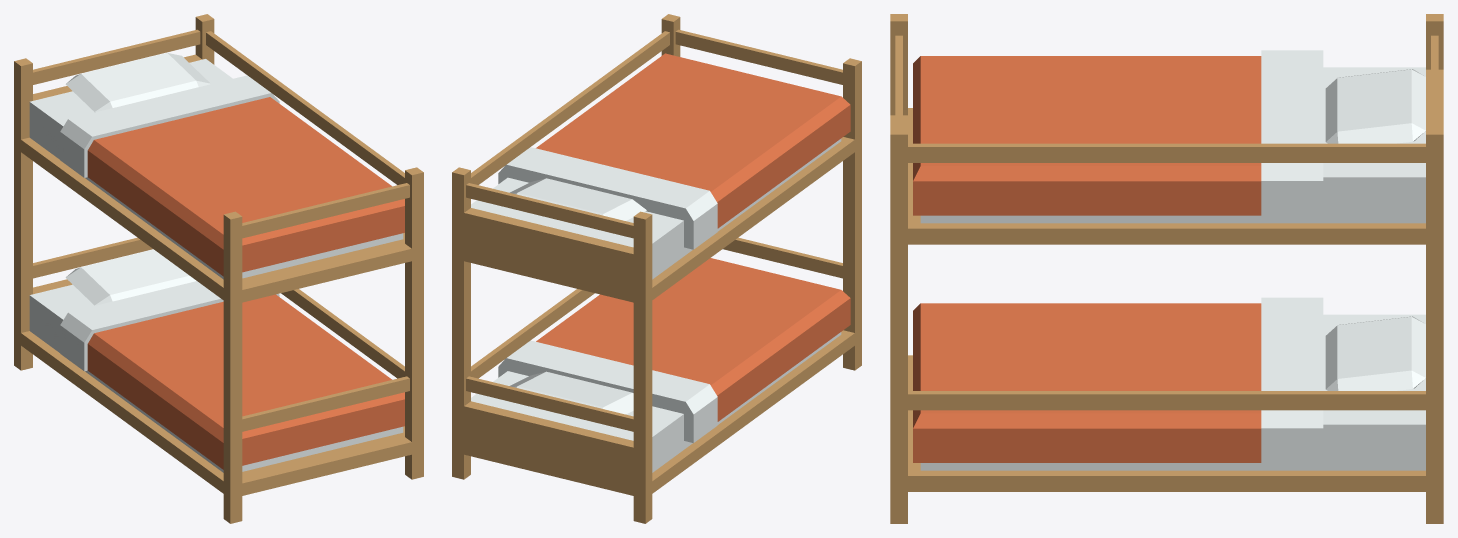
Rendered from bedBunk.glb.
The picture shows the model from 3 angles, left to right: view 1: azimuth 30°, elevation 25°; view 2: azimuth 150°, elevation 25°; view 3: azimuth 270°, elevation 25°; orthographic projection. The views are drawn at different scales.
Visible parts, largest first — view 1: bedBunk, coverTop, coverBottom, pillowTop, pillowBottom; view 2: bedBunk, coverTop, coverBottom, pillowTop, pillowBottom; view 3: bedBunk, coverTop, coverBottom, pillowTop, pillowBottom.
Part boxes in pixels (x1,y1,x2,y2): bedBunk: (14, 14, 423, 523); coverTop: (60, 75, 404, 276); coverBottom: (60, 281, 404, 469); pillowTop: (65, 53, 210, 112); pillowBottom: (65, 249, 196, 305); bedBunk: (452, 14, 861, 523); coverTop: (498, 53, 850, 249); coverBottom: (498, 258, 850, 442); pillowTop: (510, 178, 646, 220); pillowBottom: (509, 371, 633, 414); bedBunk: (890, 14, 1443, 523); coverTop: (913, 50, 1323, 217); coverBottom: (913, 297, 1323, 464); pillowTop: (1325, 69, 1425, 143); pillowBottom: (1325, 316, 1425, 390).
Size of the model in its own units: 1.03 by 1.53 by 1.97.
